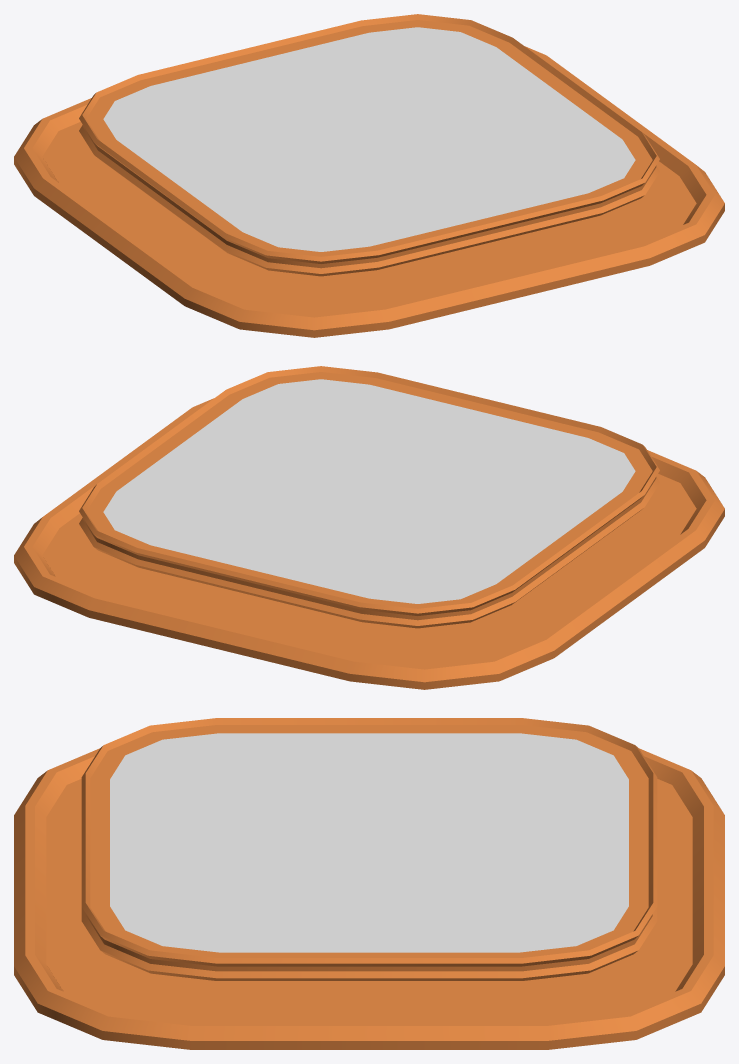
File: Jump Pad.fbx
The picture shows the model from 3 angles, top to bottom: view 1: azimuth 30°, elevation 25°; view 2: azimuth 150°, elevation 25°; view 3: azimuth 270°, elevation 25°; orthographic projection. The views are drawn at different scales.
Parts seen in each view (by area): view 1: Jump Pad Mola; view 2: Jump Pad Mola; view 3: Jump Pad Mola.
Boxes of the visible parts, left/top/right/bottom form: Jump Pad Mola: left=14, top=14, right=724, bottom=337; Jump Pad Mola: left=14, top=366, right=724, bottom=689; Jump Pad Mola: left=14, top=718, right=724, bottom=1049.
Size of the model in its own units: 1010 by 96.86 by 1010.
